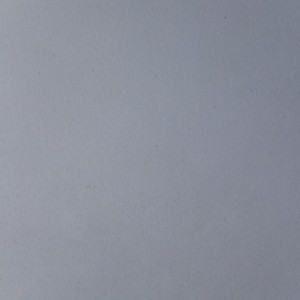back: (1, 3, 299, 299)
